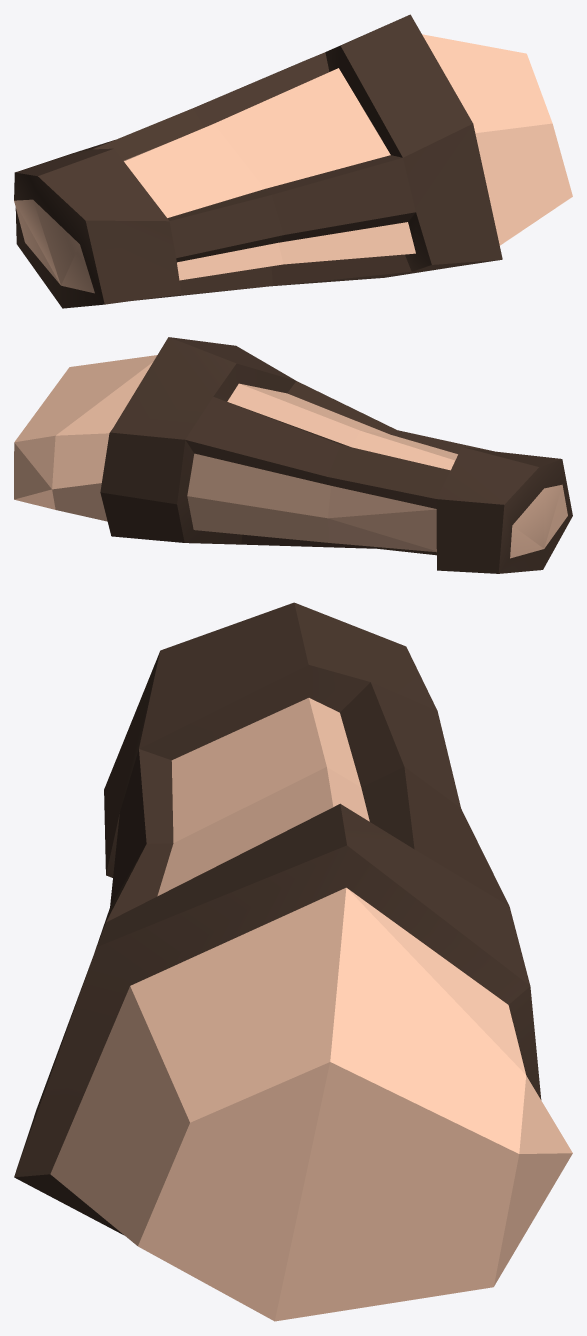
File: Chr_ArmLowerRight_Male_09_Static.fbx
The picture shows the model from 3 angles, top to bottom: view 1: azimuth 30°, elevation 25°; view 2: azimuth 150°, elevation 25°; view 3: azimuth 270°, elevation 25°; orthographic projection. The views are drawn at different scales.
Visible parts, largest first — view 1: Chr_ArmLowerRight_Male_09_Static; view 2: Chr_ArmLowerRight_Male_09_Static; view 3: Chr_ArmLowerRight_Male_09_Static.
Boxes of the visible parts, bbox=[...] form: Chr_ArmLowerRight_Male_09_Static: bbox=[14, 14, 572, 308]; Chr_ArmLowerRight_Male_09_Static: bbox=[14, 337, 572, 573]; Chr_ArmLowerRight_Male_09_Static: bbox=[14, 602, 572, 1321].
Size of the model in its own units: 0.2896 by 0.1279 by 0.1467.
